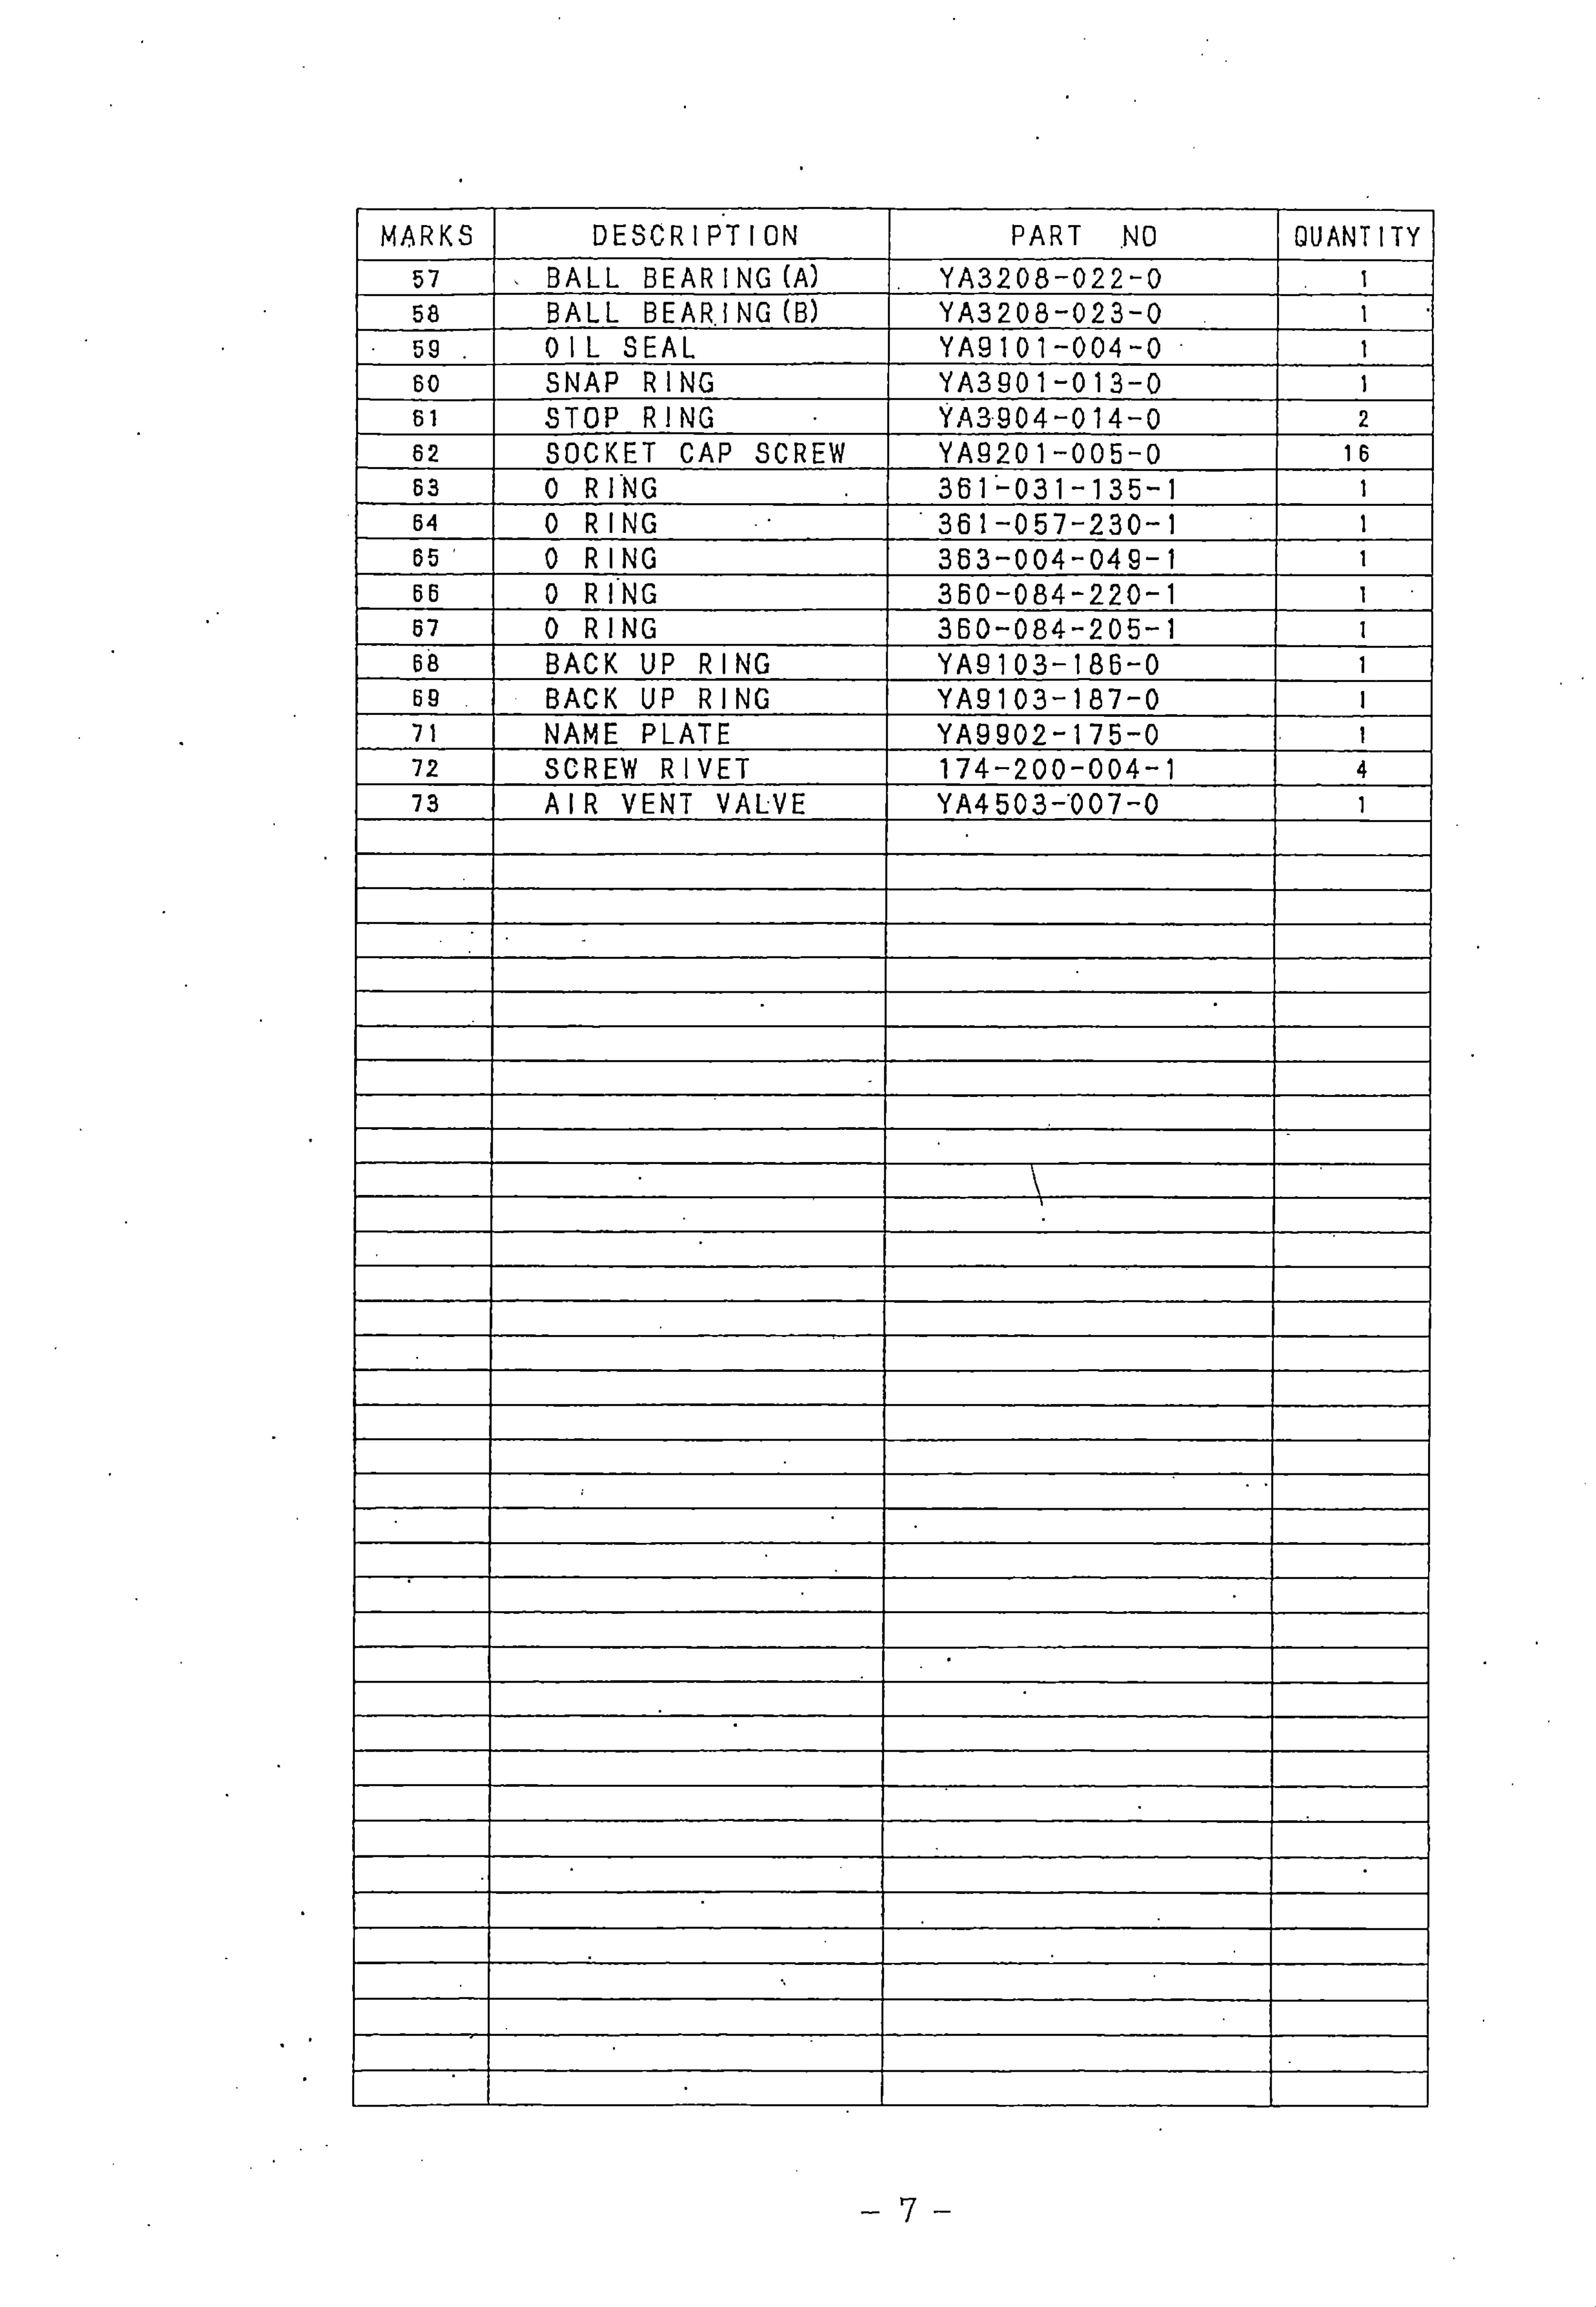Table: (330, 189, 1440, 2125)
